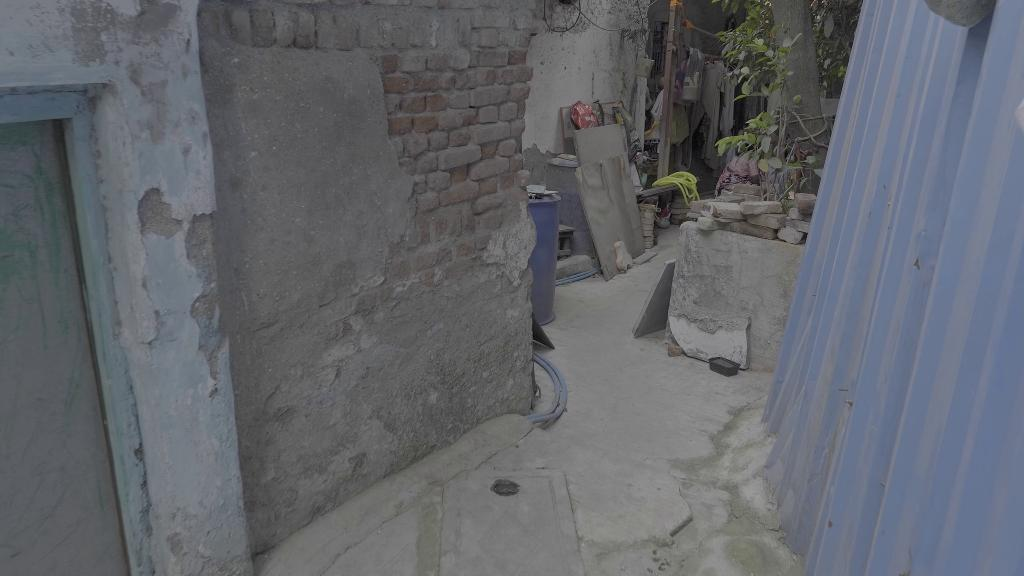garbage: (571, 98, 602, 132), (491, 476, 523, 498)
